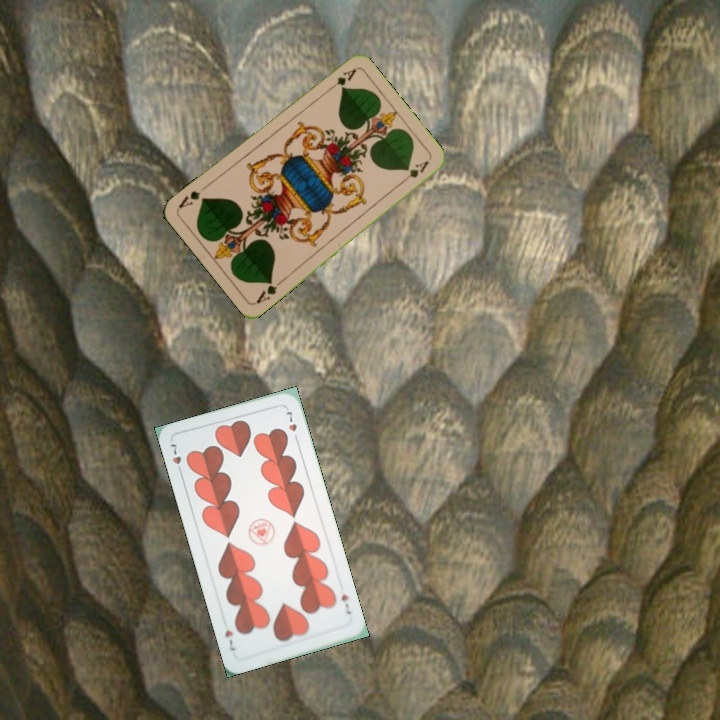GA: (252, 275, 286, 306), (323, 65, 359, 94)
H7: (166, 440, 185, 478), (337, 590, 355, 617)
